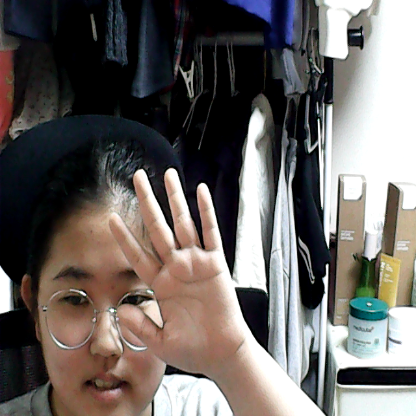Finger_5: (102, 159, 258, 382)
